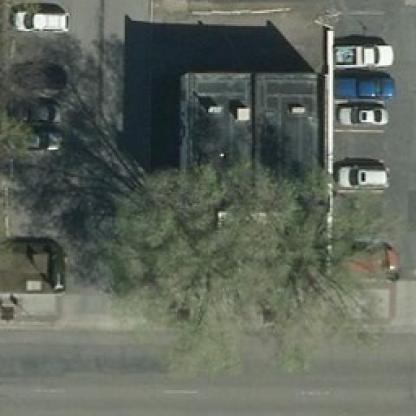car: (330, 237, 393, 286), (8, 99, 65, 130), (5, 122, 63, 151), (334, 160, 388, 188), (333, 42, 393, 65), (332, 72, 392, 95), (14, 10, 70, 34), (333, 104, 387, 125)
